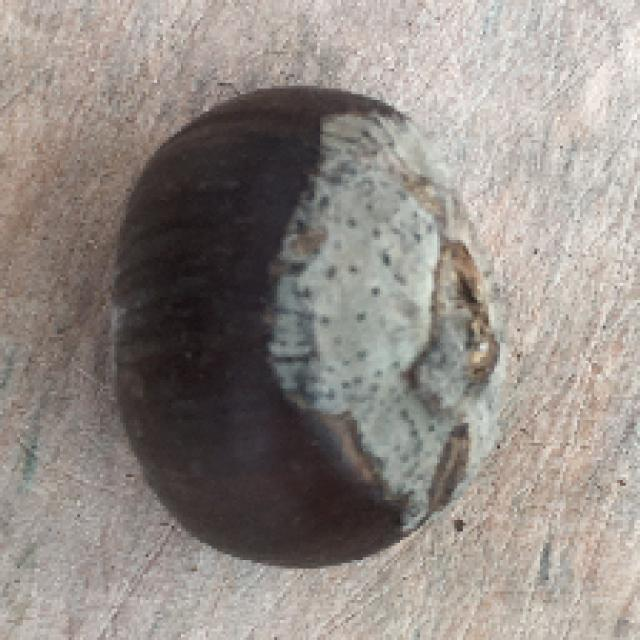damagedHazelnut: (101, 88, 498, 566)
